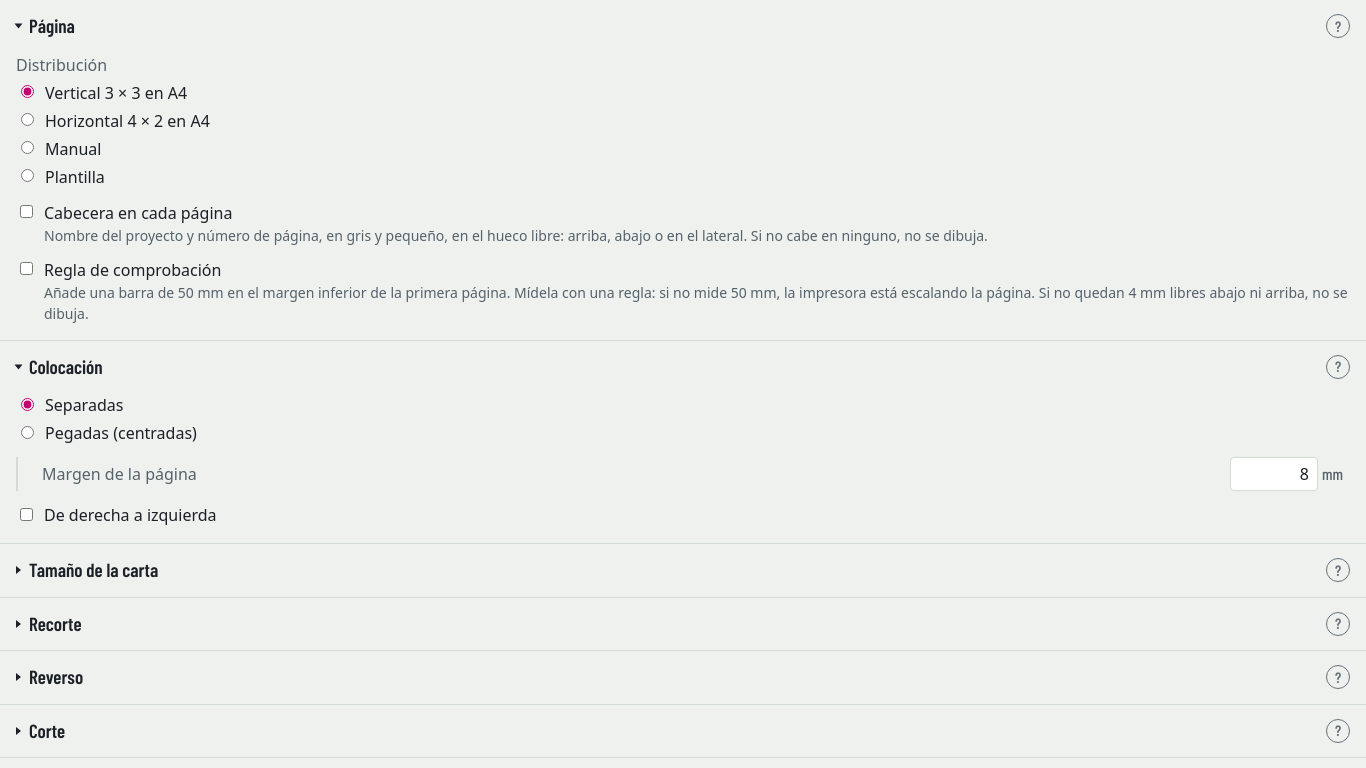
Test: SettingsPanel › sin cartas, la pista del tamaño según la imagen es la genérica
Click the heading "Tamaño de la carta ?" at (94, 570), box [29,558,1350,582]
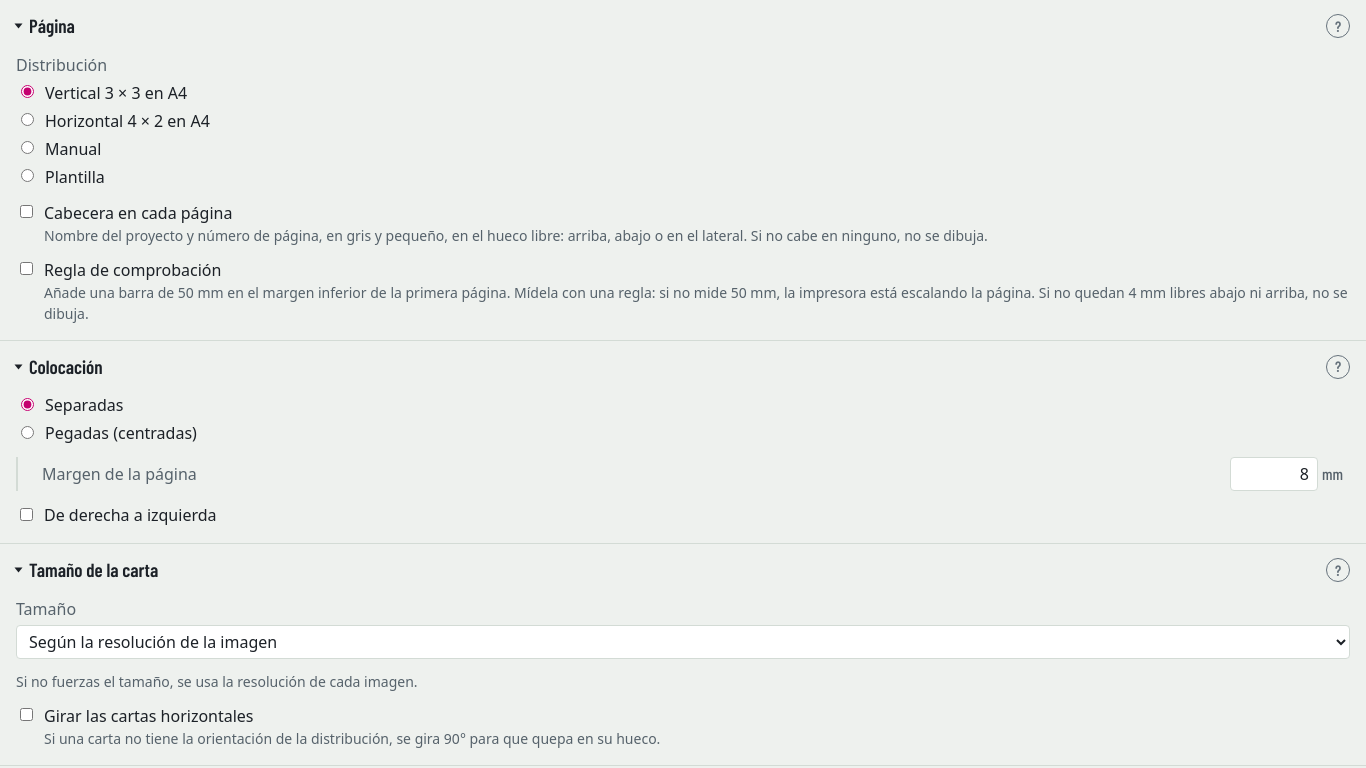
Expected: the text "Si no fuerzas el tamaño" is shown, [16,672,418,690]
